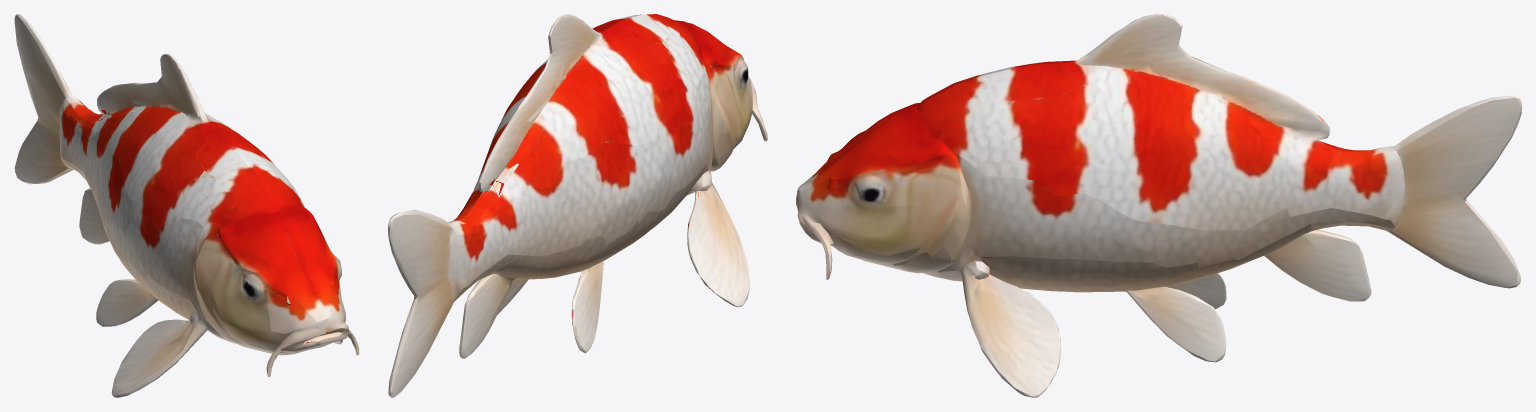
File: koi.glb
3 renders of one model, left to right at view 1: azimuth 30°, elevation 25°; view 2: azimuth 150°, elevation 25°; view 3: azimuth 270°, elevation 25°, orthographic. The views are drawn at different scales.
Parts seen in each view (by area): view 1: world; view 2: world; view 3: world.
Part boxes in pixels (box(x1,y1,x2,y2)): world: box(14, 14, 359, 397); world: box(388, 14, 767, 397); world: box(796, 14, 1521, 397).
Size of the model in its own units: 0.4173 by 0.4898 by 1.
1 material, 1 textured.
